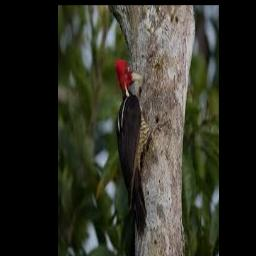Woodpecker: (114, 58, 169, 236)
